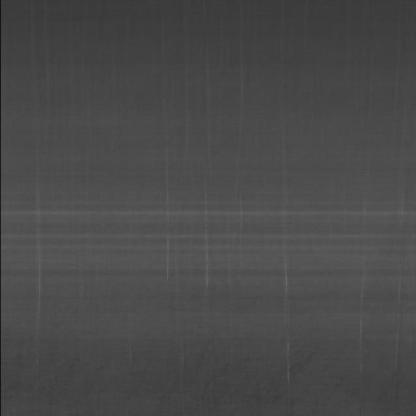waist_folding: (14, 187, 415, 314)
